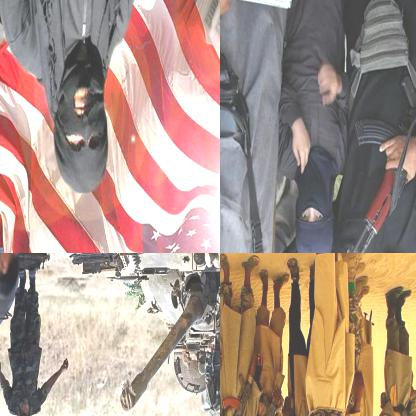rifle: (328, 25, 415, 252), (220, 353, 258, 415), (240, 372, 286, 415), (393, 398, 413, 415)
